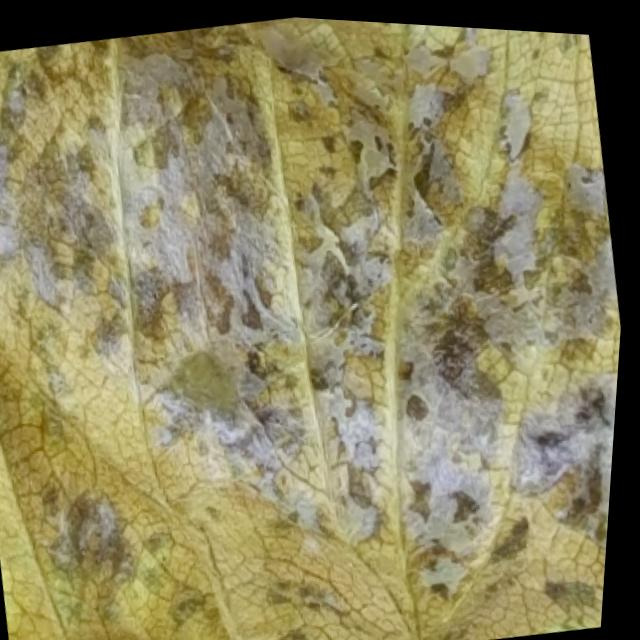Angular Leafspot: (0, 14, 625, 640)
